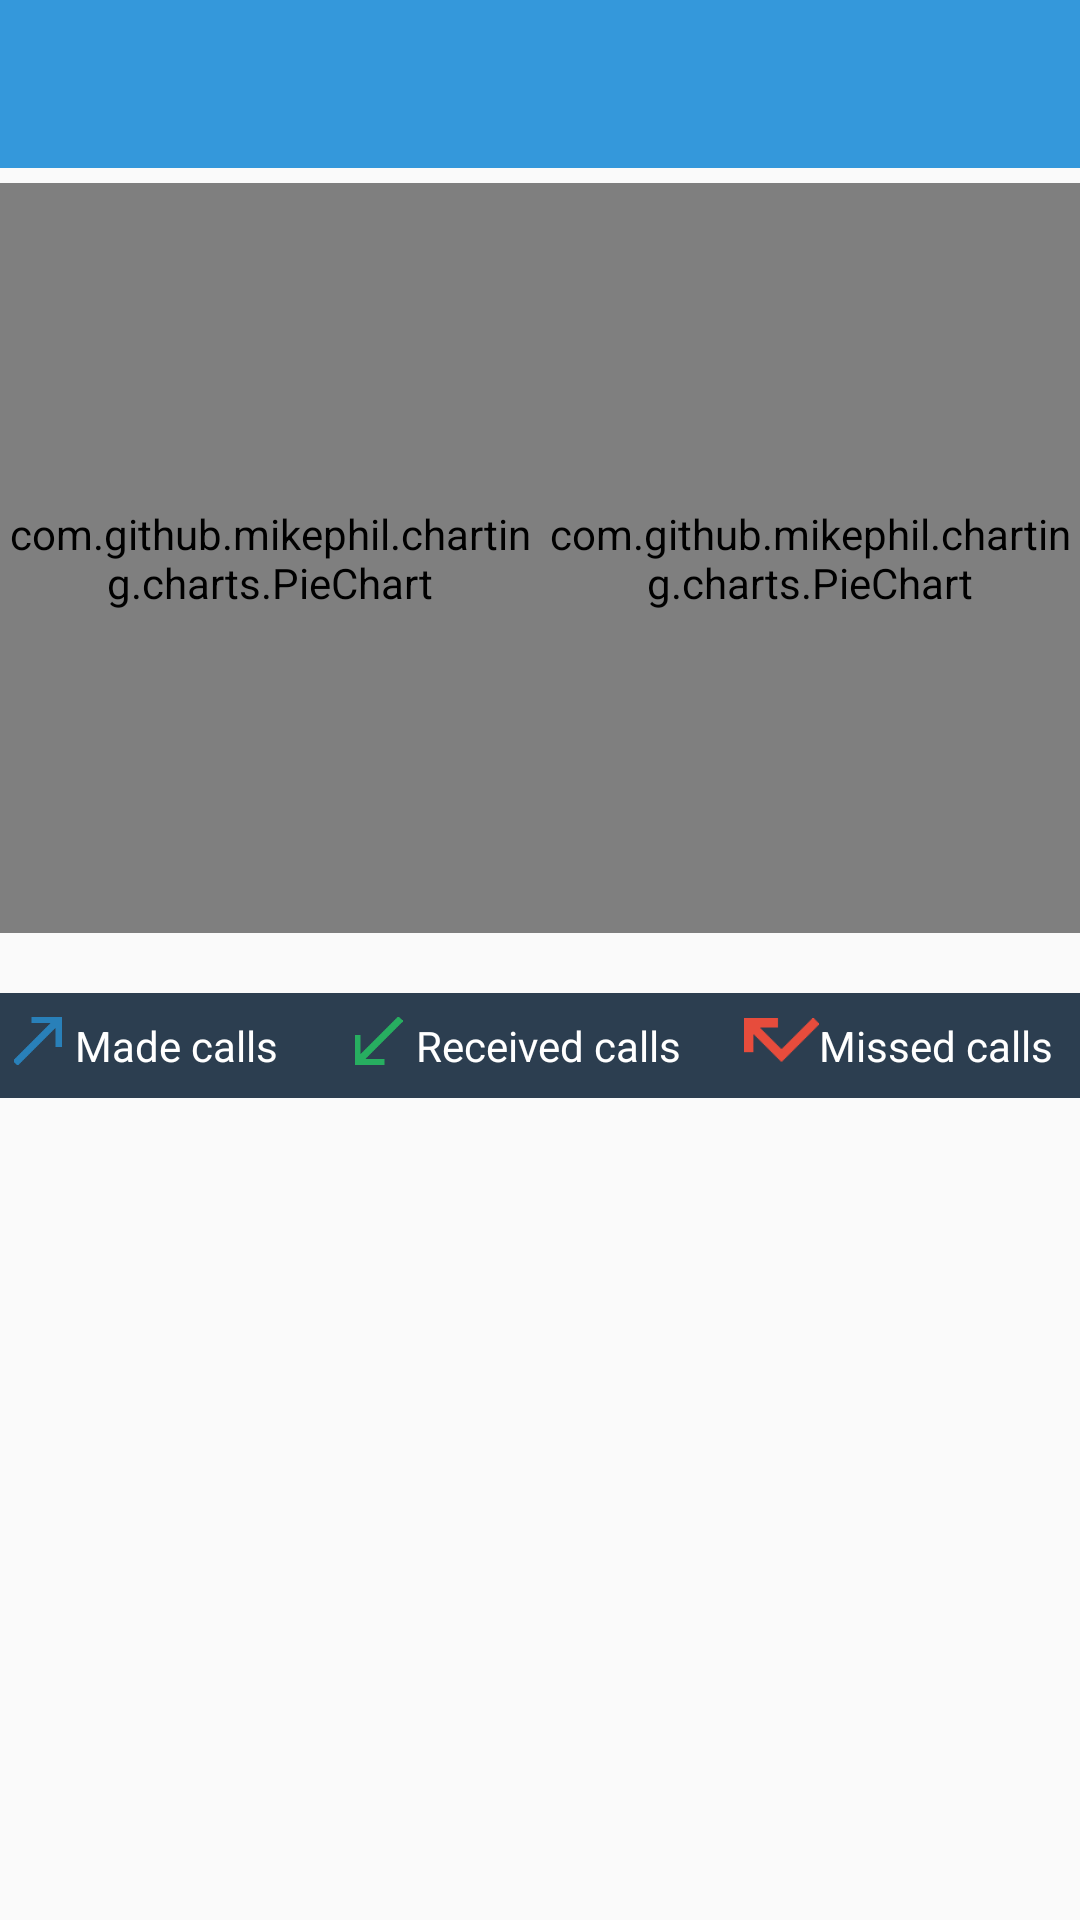

Icons on this 1080*1920 Android screen, each with the point to tap as (x,y):
callmade: (38,1041)
callmissed: (781,1040)
callreceived: (379,1041)
